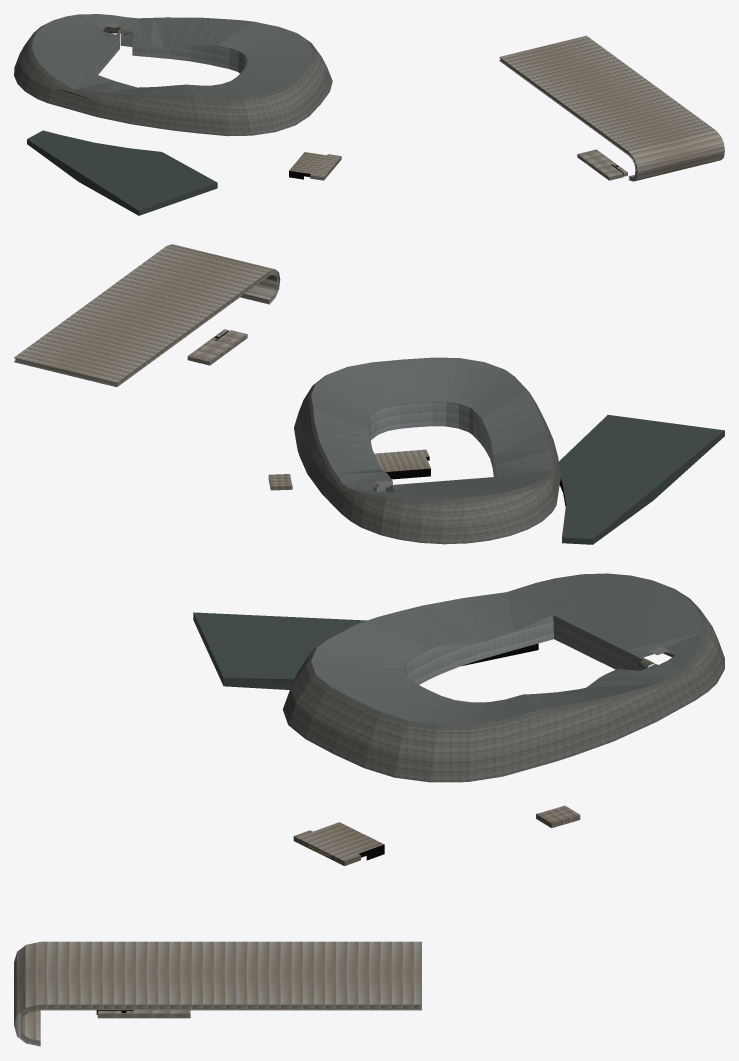
File: 6_ROOF_창녕문화예술회관.fbx
3 views of the same model, one above another, from view 1: azimuth 30°, elevation 25°; view 2: azimuth 150°, elevation 25°; view 3: azimuth 270°, elevation 25° (orthographic). The views are drawn at different scales.
Parts seen in each view (by area): view 1: ROOF_콘-M_B0010000000CUFEBOF00F00_ROOF_0000007, ROOF_콘-M_B0010000000CUFEBOF00F00_ROOF_0000004, ROOF_콘-M_B0010000000CUFEBOF00F00_ROOF_0000006, ROOF_콘-M_B0010000000CUFEBOF00F00_ROOF_0000001, ROOF_콘-M_B0010000000CUFEBOF00F00_ROOF_0000002; view 2: ROOF_콘-M_B0010000000CUFEBOF00F00_ROOF_0000007, ROOF_콘-M_B0010000000CUFEBOF00F00_ROOF_0000004, ROOF_콘-M_B0010000000CUFEBOF00F00_ROOF_0000006, ROOF_콘-M_B0010000000CUFEBOF00F00_ROOF_0000001, ROOF_콘-M_B0010000000CUFEBOF00F00_ROOF_0000002; view 3: ROOF_콘-M_B0010000000CUFEBOF00F00_ROOF_0000007, ROOF_콘-M_B0010000000CUFEBOF00F00_ROOF_0000004, ROOF_콘-M_B0010000000CUFEBOF00F00_ROOF_0000006, ROOF_콘-M_B0010000000CUFEBOF00F00_ROOF_0000001, ROOF_콘-M_B0010000000CUFEBOF00F00_ROOF_0000002.
Part boxes in pixels (box(x1,y1,x2,y2)): ROOF_콘-M_B0010000000CUFEBOF00F00_ROOF_0000007: box(14, 14, 332, 136); ROOF_콘-M_B0010000000CUFEBOF00F00_ROOF_0000004: box(499, 35, 724, 181); ROOF_콘-M_B0010000000CUFEBOF00F00_ROOF_0000006: box(27, 130, 217, 215); ROOF_콘-M_B0010000000CUFEBOF00F00_ROOF_0000001: box(289, 152, 341, 180); ROOF_콘-M_B0010000000CUFEBOF00F00_ROOF_0000002: box(577, 149, 627, 180); ROOF_콘-M_B0010000000CUFEBOF00F00_ROOF_0000007: box(294, 357, 560, 544); ROOF_콘-M_B0010000000CUFEBOF00F00_ROOF_0000004: box(14, 244, 280, 387); ROOF_콘-M_B0010000000CUFEBOF00F00_ROOF_0000006: box(559, 415, 724, 544); ROOF_콘-M_B0010000000CUFEBOF00F00_ROOF_0000001: box(374, 449, 430, 479); ROOF_콘-M_B0010000000CUFEBOF00F00_ROOF_0000002: box(187, 329, 247, 365); ROOF_콘-M_B0010000000CUFEBOF00F00_ROOF_0000007: box(283, 573, 724, 782); ROOF_콘-M_B0010000000CUFEBOF00F00_ROOF_0000004: box(14, 941, 421, 1046); ROOF_콘-M_B0010000000CUFEBOF00F00_ROOF_0000006: box(193, 612, 538, 689); ROOF_콘-M_B0010000000CUFEBOF00F00_ROOF_0000001: box(293, 822, 384, 865); ROOF_콘-M_B0010000000CUFEBOF00F00_ROOF_0000002: box(96, 1010, 190, 1018).
Bounding box in the file's own units: 99.17 × 17.97 × 78.85.
Materials: 12 (10 with a texture image).
